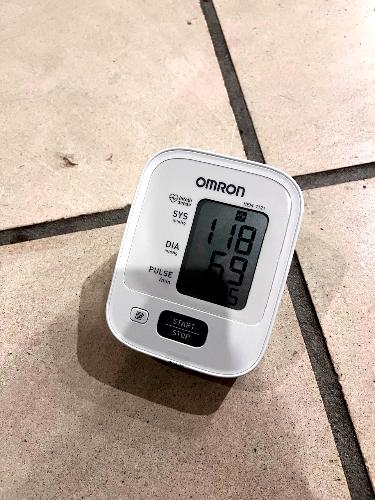bpm: (171, 194, 273, 316)
